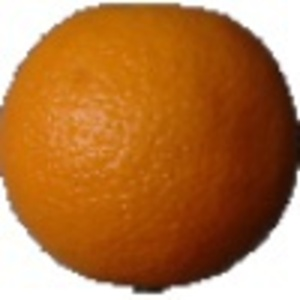laranja: (3, 5, 296, 295)
